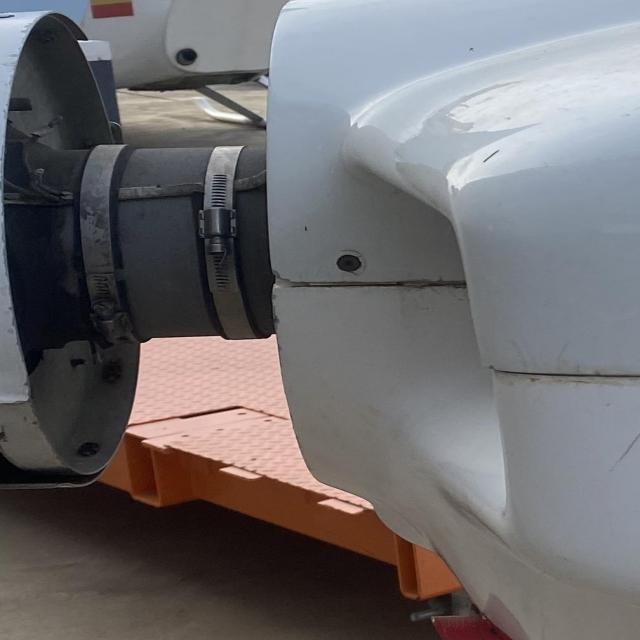Scratch: (603, 419, 640, 475)
